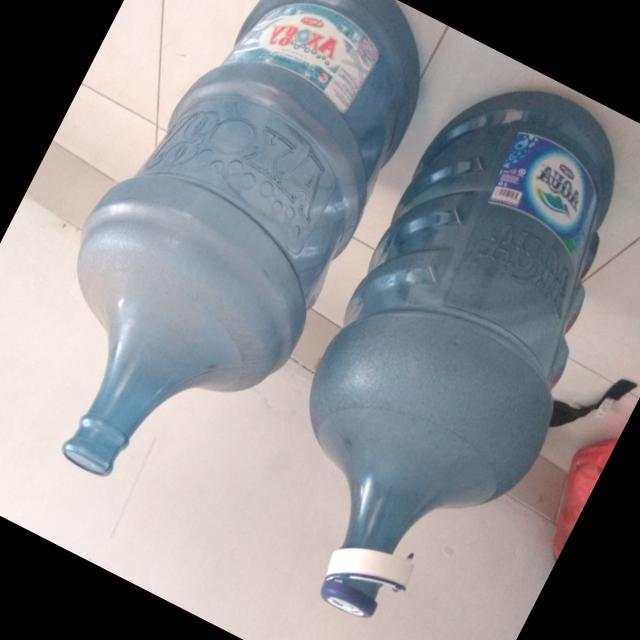Galon: (215, 48, 640, 640), (0, 0, 457, 534)
